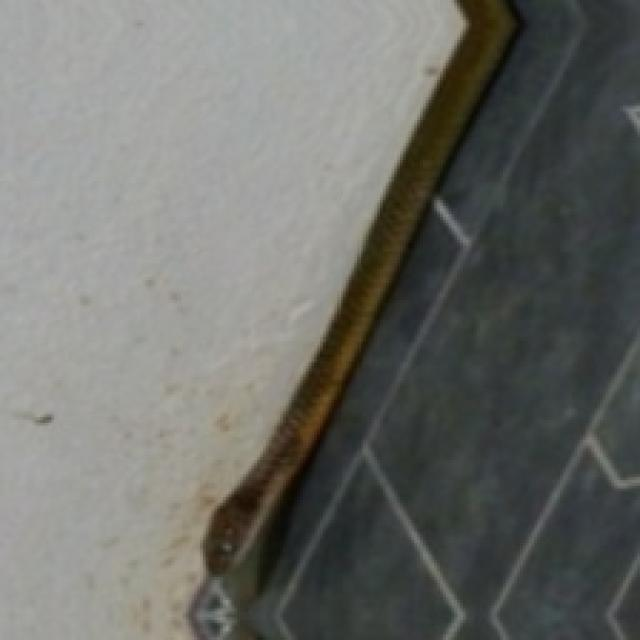king cobra: (246, 0, 637, 637), (191, 0, 514, 637)
